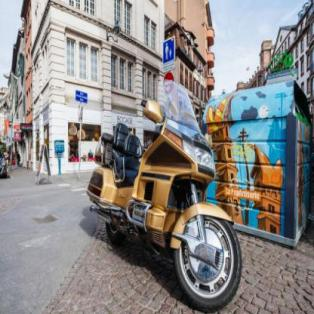Motocicleta: (89, 85, 245, 312)
